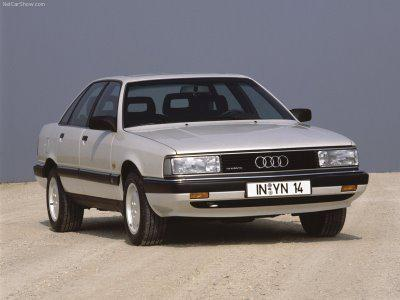Car: (29, 64, 375, 254)
